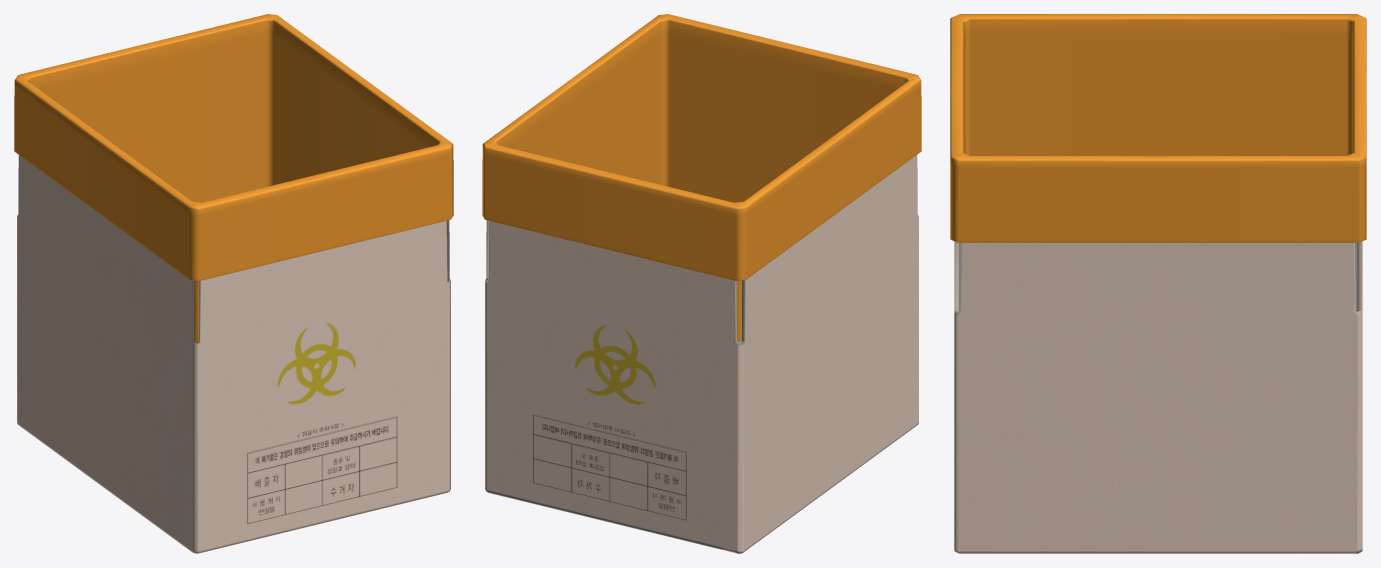
File: TrachCan.fbx
3 renders of one model, left to right at view 1: azimuth 30°, elevation 25°; view 2: azimuth 150°, elevation 25°; view 3: azimuth 270°, elevation 25°, orthographic. The views are drawn at different scales.
Visible parts, largest first — view 1: TrachCanC_low; view 2: TrachCanC_low; view 3: TrachCanC_low.
Boxes of the visible parts, bbox=[...] form: TrachCanC_low: bbox=[14, 14, 453, 553]; TrachCanC_low: bbox=[482, 14, 921, 553]; TrachCanC_low: bbox=[950, 14, 1366, 553].
Bounding box in the file's own units: 29.22 × 36.82 × 35.05.
Materials: 1 (1 with a texture image).
